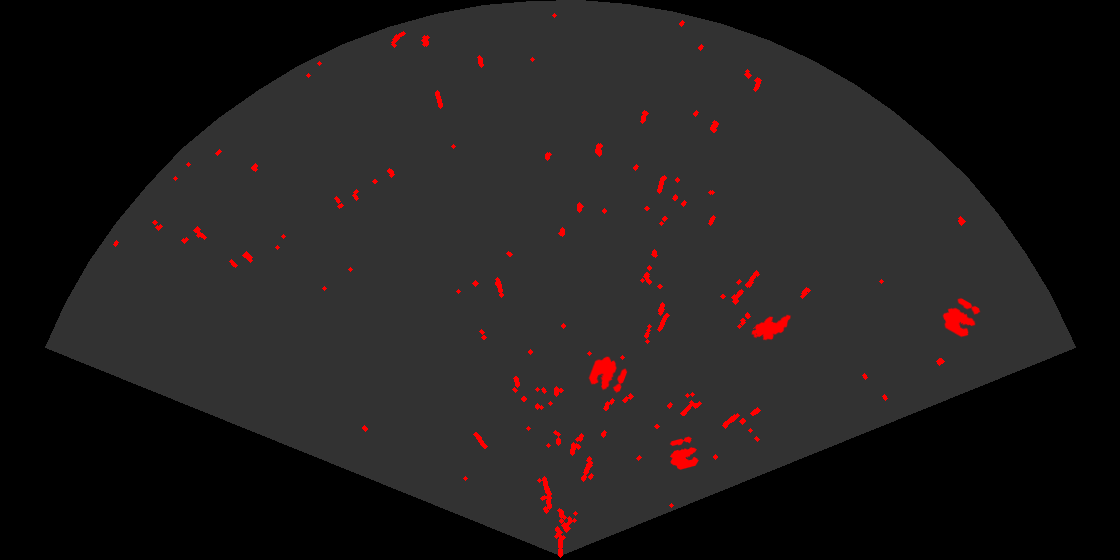AUV: (750, 313, 792, 342)
ball: (941, 296, 982, 339), (587, 355, 629, 395), (668, 435, 700, 471)
